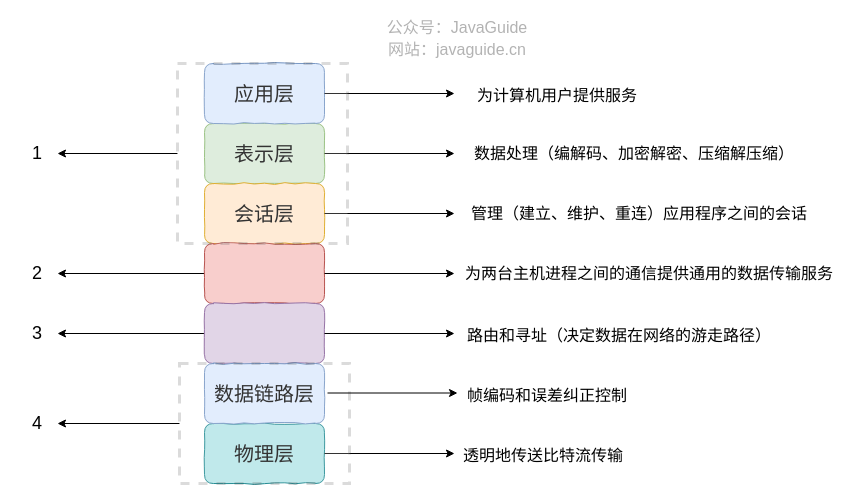
Image size: 851x502. Some labels were removed from this diagram. The shapes that lost their labels are listed below. From the top down, each one's box as (x1, y1, x2, y2) in pixels, then its label:
(204, 242, 324, 304): 传输层
(204, 302, 324, 364): 网络层
